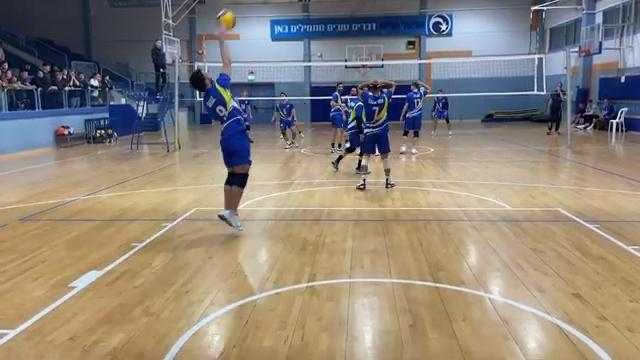ball: (211, 7, 237, 32)
